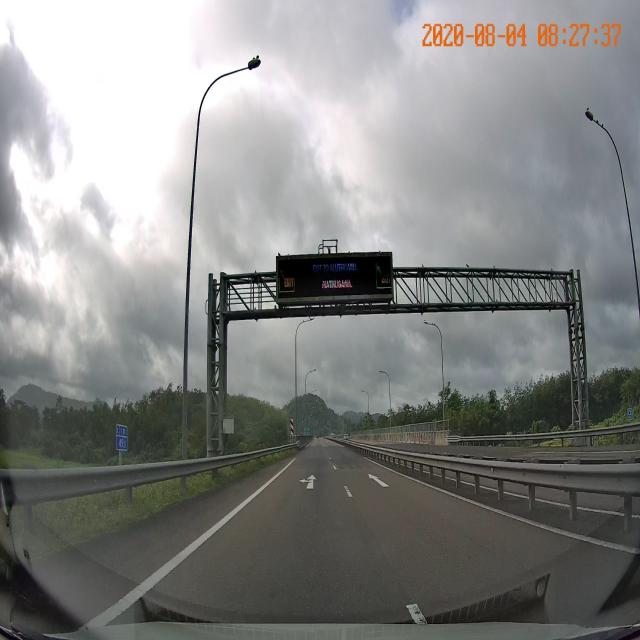forward_lft: (251, 471, 357, 500)
